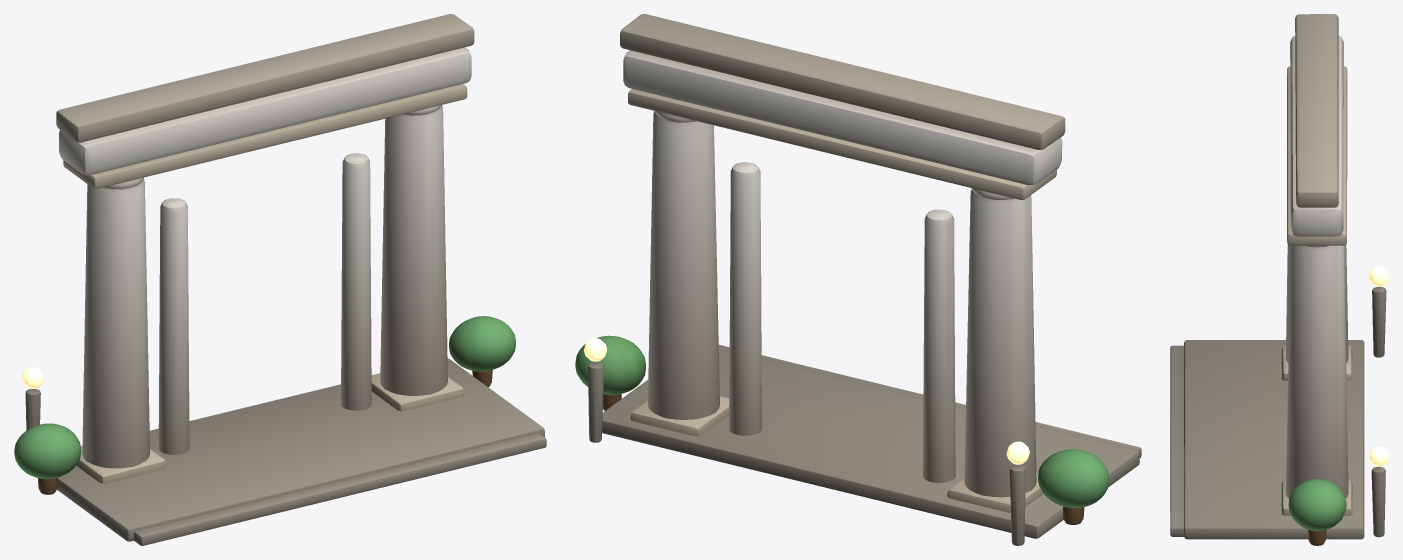
3 renders of one model, left to right at view 1: azimuth 30°, elevation 25°; view 2: azimuth 150°, elevation 25°; view 3: azimuth 270°, elevation 25°, orthographic. The views are drawn at different scales.
Parts seen in each view (by area): view 1: gate_212410b8; view 2: gate_212410b8; view 3: gate_212410b8.
Boxes of the visible parts, left/top/right/bottom form: gate_212410b8: left=14, top=14, right=546, bottom=545; gate_212410b8: left=575, top=14, right=1141, bottom=545; gate_212410b8: left=1170, top=14, right=1388, bottom=545.
Bounding box in the file's own units: 6.16 × 4.42 × 2.54.
